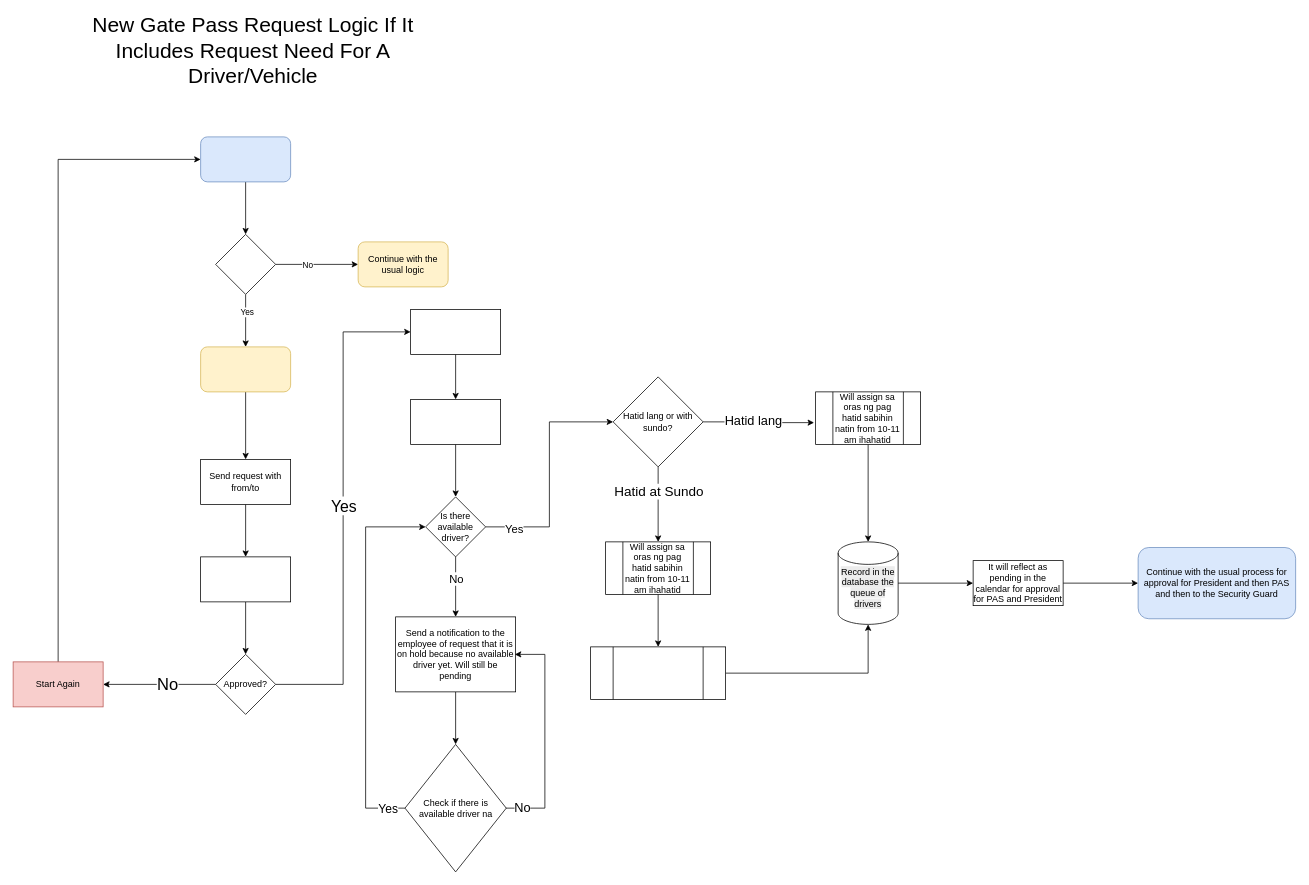
Some shapes in this 1309 by 885 pixel diagram are drawn without their labels. Here are the shapes that lost their labels. From the top down, the centre of each, then its label:
At point 245,159: "Employee Request a Gate Pass".
At point 245,264: "Needs company vehicle?".
At point 455,331: "Request Sent to HR either Miss Joy or Miss Rox".
At point 245,369: "Continue with the new logic".
At point 455,421: "Assign Available Driver and Vehicle within the time in and time out".
At point 245,579: "Request Sent to Immediate Superior".
At point 658,672: "Will assign sa oras ng pag sundo if need sabihin natin from 1-2 pm ihahatid".
